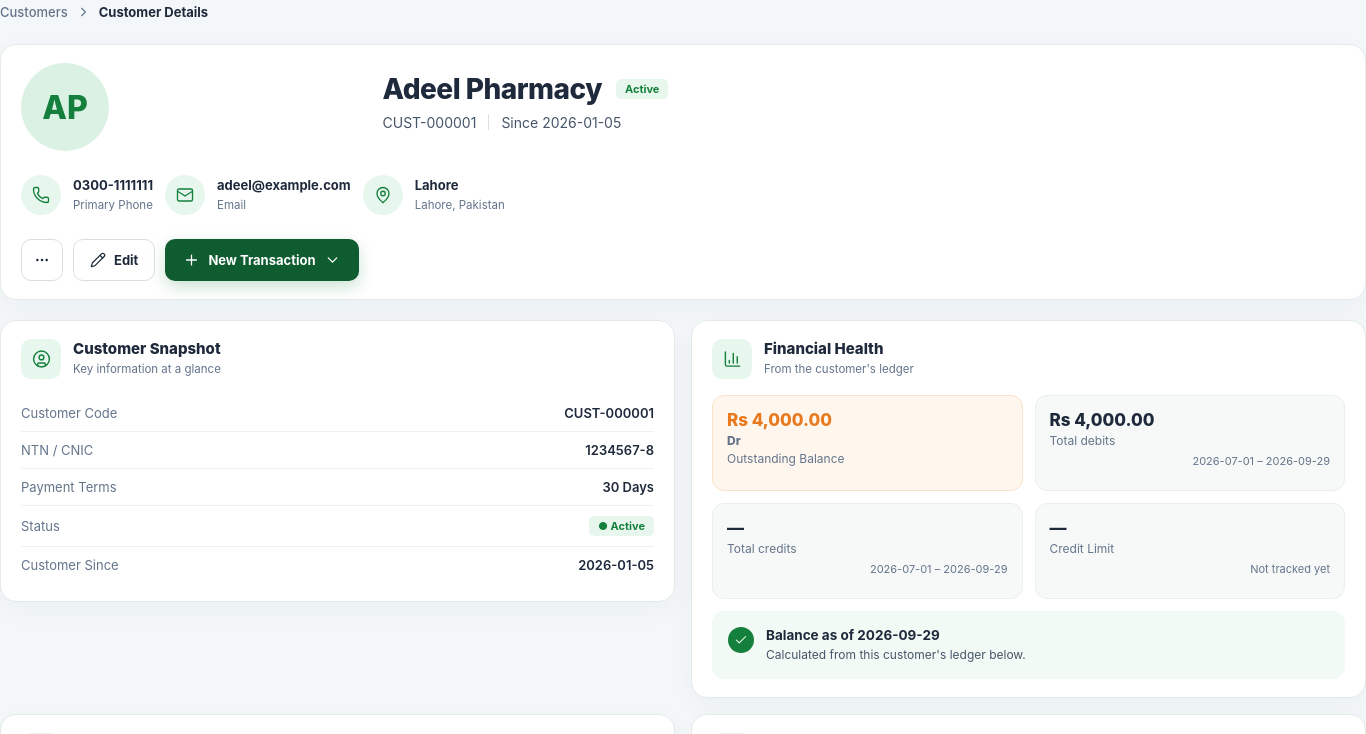
Scenario: CustomerDetail — real API › deactivates, and shows the server balance on CUSTOMER_HAS_BALANCE
The width and height of the screenshot is (1366, 734).
Expected: the heading "Adeel Pharmacy" is shown, [382,72,602,106]
Step 1. Click the button named "More" → (42, 260), box [21,239,63,281]
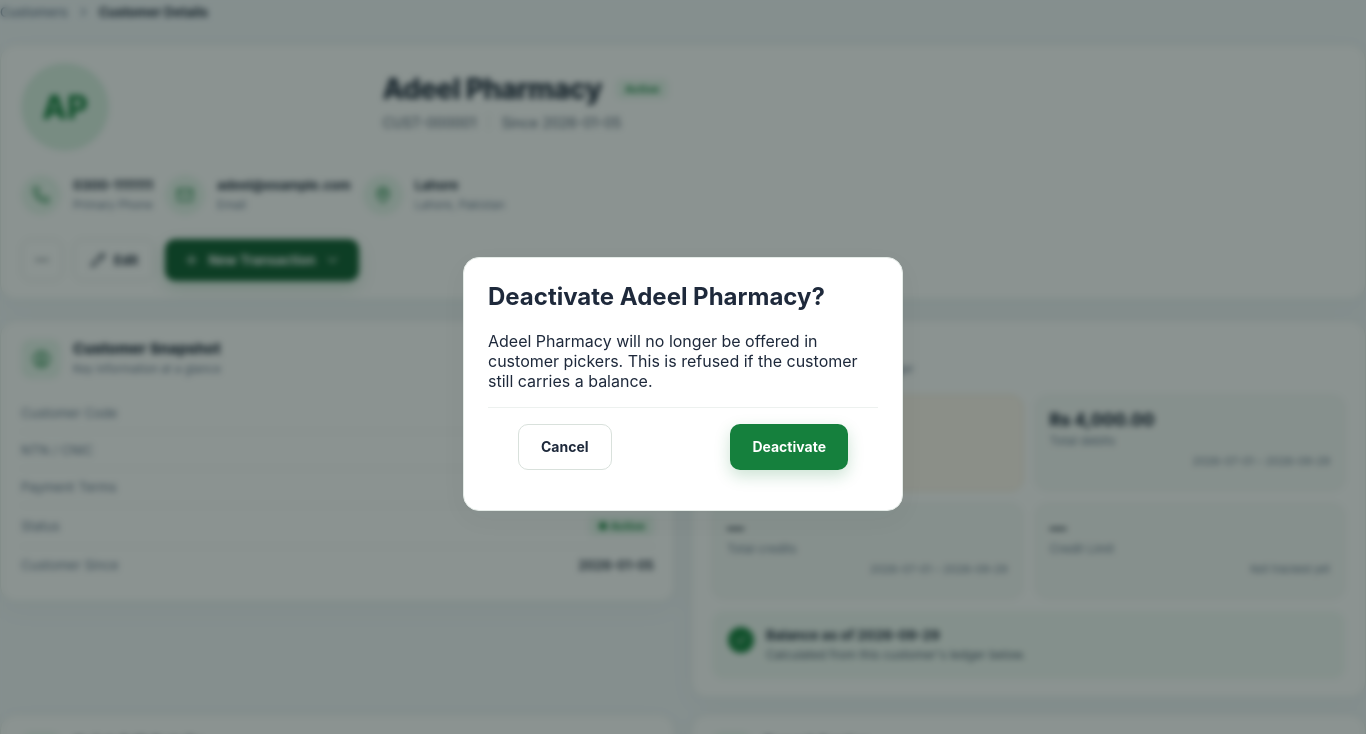
Step 2. Click the button "Deactivate" → (789, 447), box [730,424,848,470]
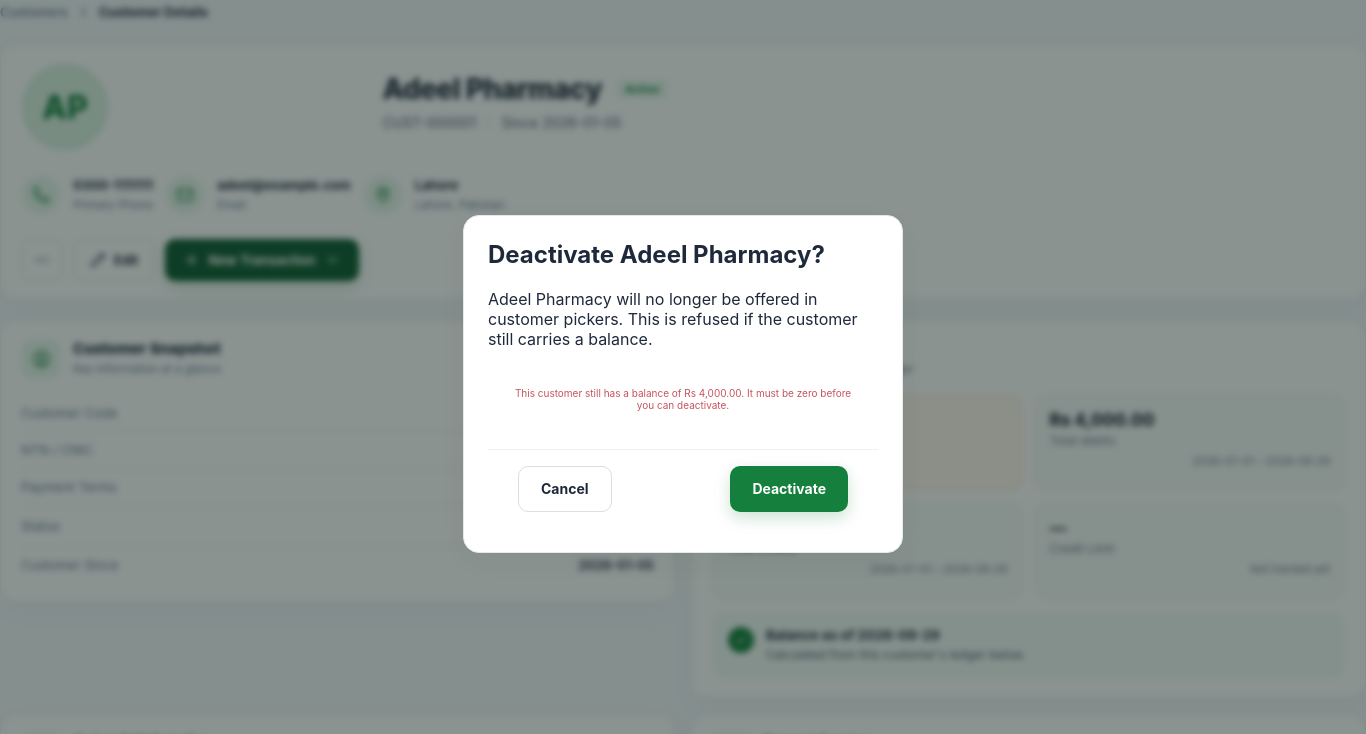
Now the text "still has a balance of" is shown, box [515,387,851,411]
